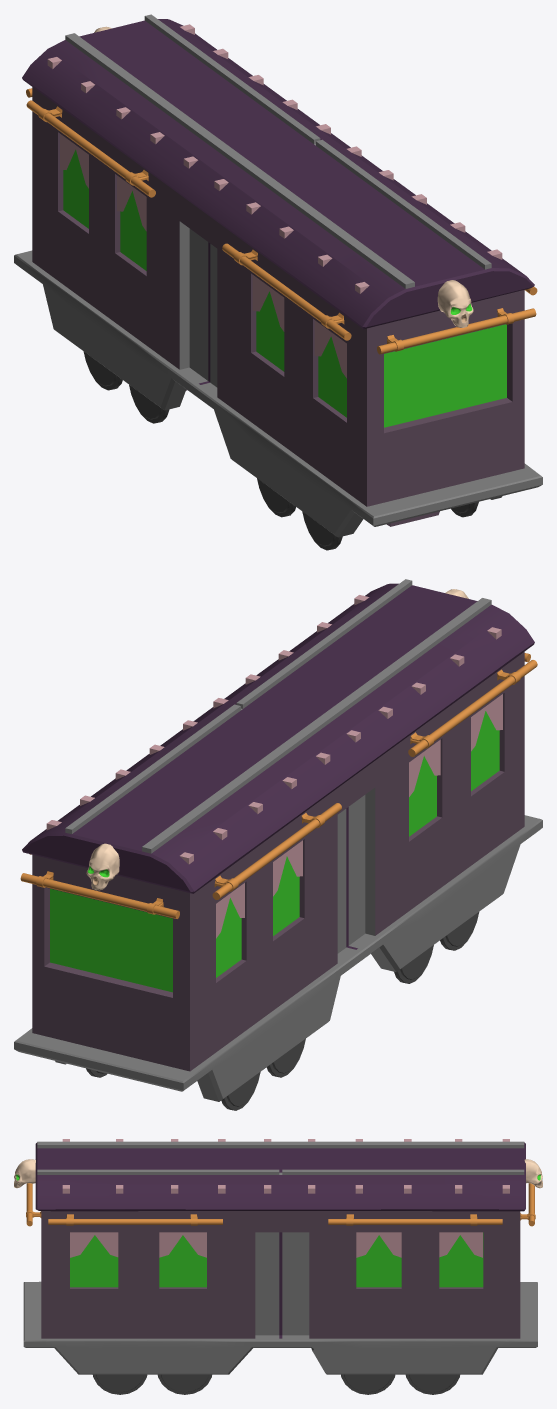
The model's file is Subway_Car_02.fbx.
3 renders of one model, top to bottom at view 1: azimuth 30°, elevation 25°; view 2: azimuth 150°, elevation 25°; view 3: azimuth 270°, elevation 25°, orthographic. The views are drawn at different scales.
Parts seen in each view (by area): view 1: Railcar_02; view 2: Railcar_02; view 3: Railcar_02.
Part boxes in pixels (left/top/right/bottom): Railcar_02: left=14, top=14, right=542, bottom=550; Railcar_02: left=14, top=579, right=542, bottom=1110; Railcar_02: left=14, top=1139, right=542, bottom=1394.
Size of the model in its own units: 113 by 165 by 370.
Materials: 1 (1 with a texture image).
